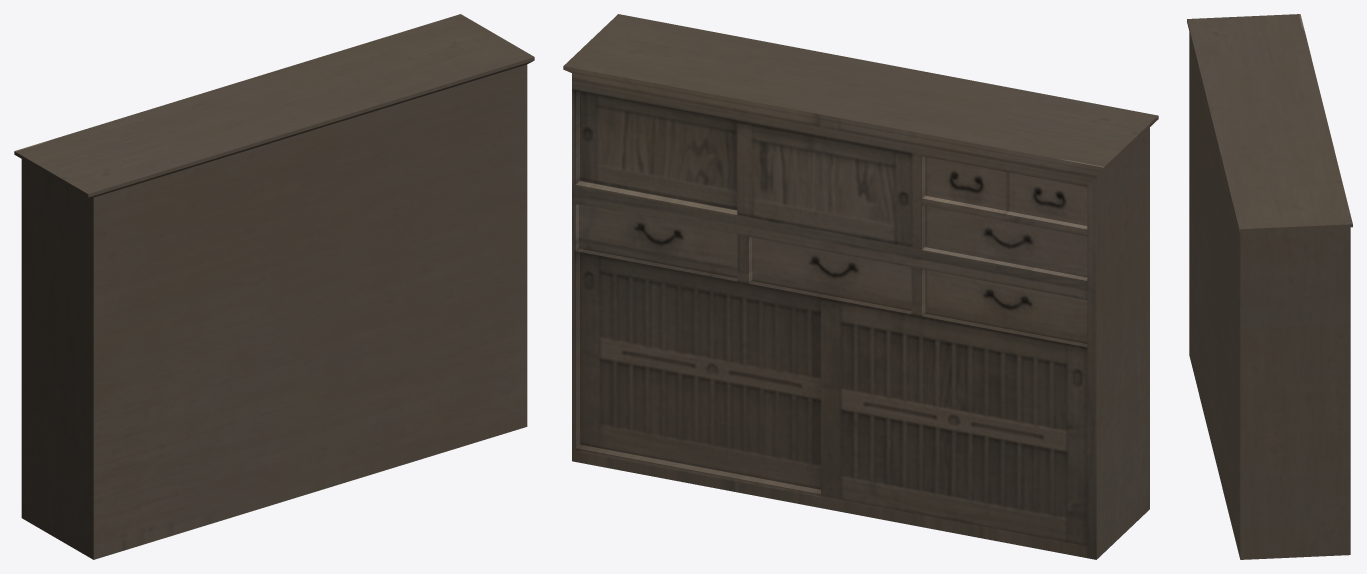
The model's file is cupboard.gltf.
3 renders of one model, left to right at view 1: azimuth 30°, elevation 25°; view 2: azimuth 150°, elevation 25°; view 3: azimuth 270°, elevation 25°, orthographic. The views are drawn at different scales.
Visible parts, largest first — view 1: Cube.002; view 2: Cube.002; view 3: Cube.002.
Boxes of the visible parts, x1,y1,x2,y2 form: Cube.002: (14, 14, 534, 559); Cube.002: (563, 14, 1158, 559); Cube.002: (1187, 14, 1352, 559).
Size of the model in its own units: 1.44 by 1.04 by 0.4702.
1 material, 1 textured.
